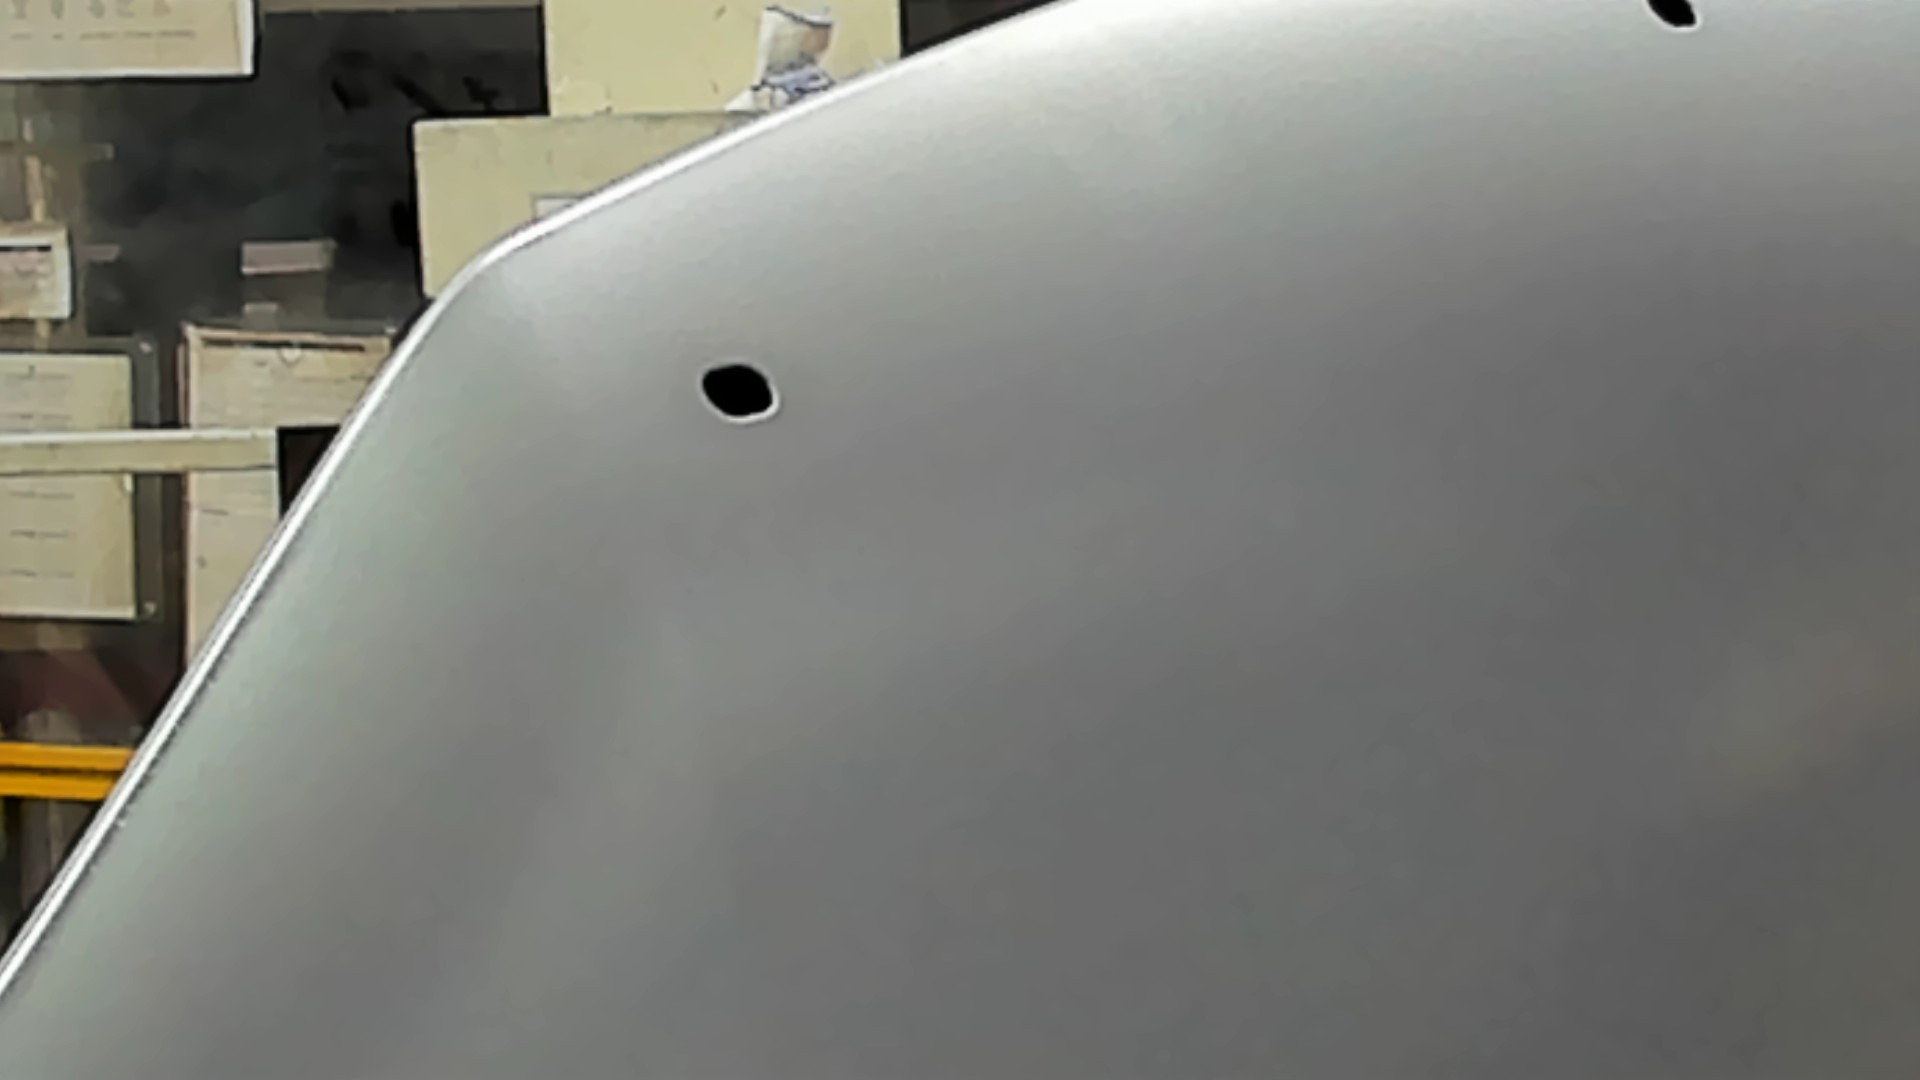amorfo: (688, 361, 787, 426), (1644, 1, 1713, 33)
